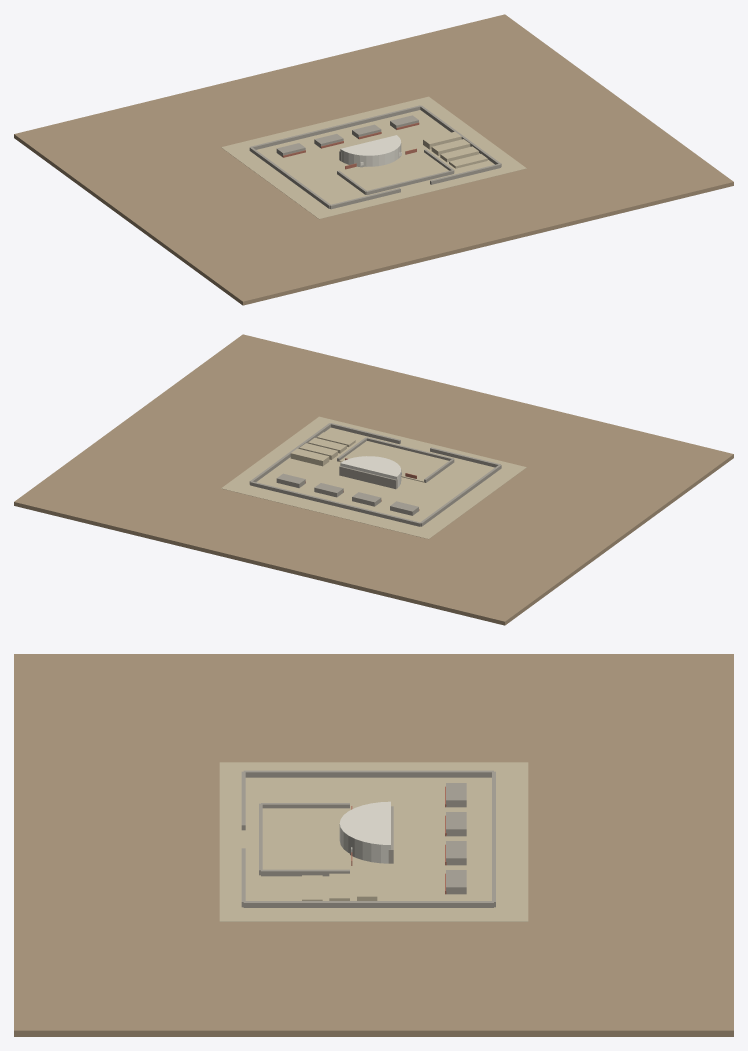
File: wari_site_lod0.glb
3 renders of one model, top to bottom at view 1: azimuth 30°, elevation 25°; view 2: azimuth 150°, elevation 25°; view 3: azimuth 270°, elevation 25°, orthographic. The views are drawn at different scales.
Parts seen in each view (by area): view 1: Wari_LOD0_Terrain, Wari_LOD0_Apron, Wari_Plaza, Wari_D_Temple, Wari_Perimeter_N, Wari_Perimeter_W; view 2: Wari_LOD0_Terrain, Wari_LOD0_Apron, Wari_Plaza, Wari_D_Temple, Wari_Perimeter_N, Wari_D_Facade, Wari_Perimeter_W; view 3: Wari_LOD0_Terrain, Wari_LOD0_Apron, Wari_Plaza, Wari_D_Temple, Wari_Perimeter_W, Wari_Perimeter_E, Wari_Plaza_E.
Part boxes in pixels (x1=…): Wari_LOD0_Terrain: x1=14, y1=14, x2=733, y2=305; Wari_LOD0_Apron: x1=221, y1=96, x2=526, y2=219; Wari_Plaza: x1=342, y1=152, x2=448, y2=190; Wari_D_Temple: x1=340, y1=135, x2=401, y2=167; Wari_Perimeter_N: x1=250, y1=105, x2=420, y2=149; Wari_Perimeter_W: x1=249, y1=147, x2=330, y2=208; Wari_LOD0_Terrain: x1=14, y1=334, x2=733, y2=625; Wari_LOD0_Apron: x1=221, y1=416, x2=526, y2=539; Wari_Plaza: x1=338, y1=441, x2=448, y2=482; Wari_D_Temple: x1=340, y1=456, x2=401, y2=487; Wari_Perimeter_N: x1=250, y1=481, x2=420, y2=526; Wari_D_Facade: x1=339, y1=466, x2=397, y2=489; Wari_Perimeter_W: x1=420, y1=464, x2=501, y2=526; Wari_LOD0_Terrain: x1=14, y1=654, x2=733, y2=1036; Wari_LOD0_Apron: x1=219, y1=762, x2=528, y2=921; Wari_Plaza: x1=262, y1=808, x2=349, y2=869; Wari_D_Temple: x1=339, y1=801, x2=390, y2=863; Wari_Perimeter_W: x1=243, y1=770, x2=493, y2=777; Wari_Perimeter_E: x1=243, y1=901, x2=493, y2=907; Wari_Plaza_E: x1=261, y1=869, x2=349, y2=876.
Bounding box in the file's own units: 520 × 16.2 × 420.
